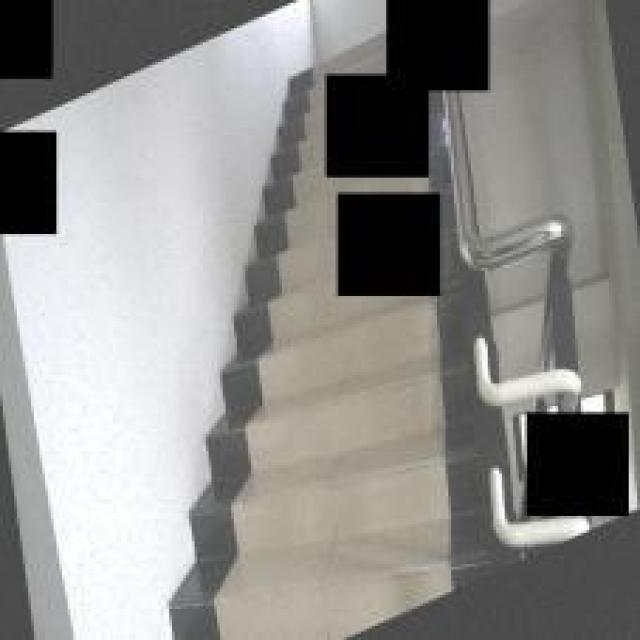upstair: (173, 334, 475, 638)
